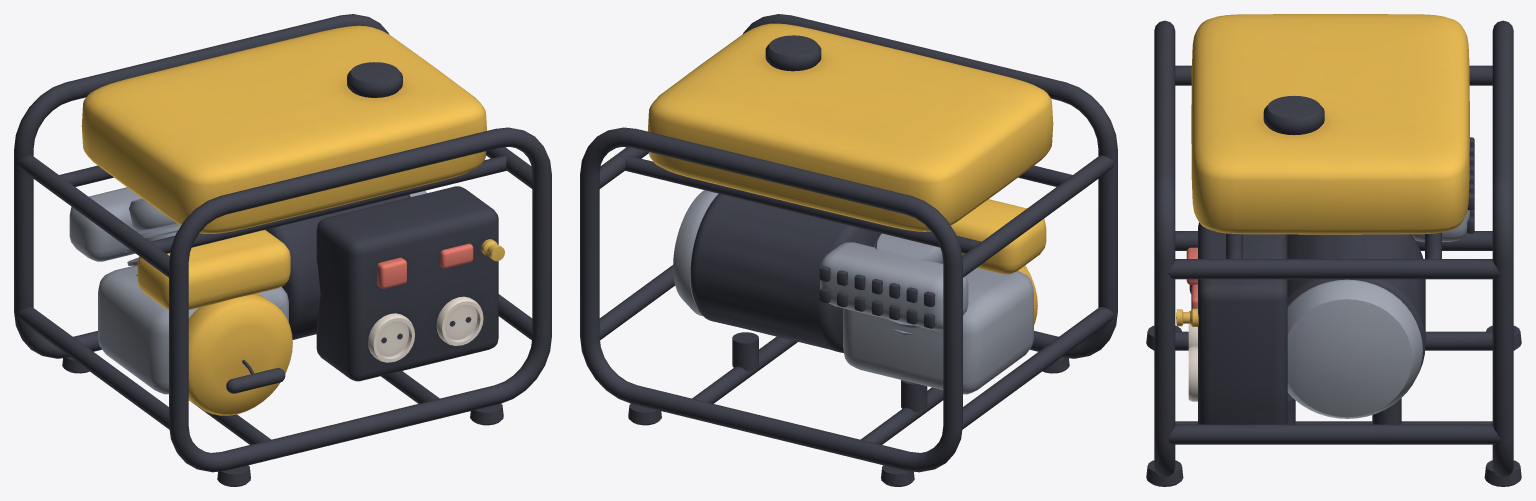
Rendered from PortableGenerator_Grab3D_CC0.glb.
The picture shows the model from 3 angles, left to right: view 1: azimuth 30°, elevation 25°; view 2: azimuth 150°, elevation 25°; view 3: azimuth 270°, elevation 25°; orthographic projection. The views are drawn at different scales.
Parts seen in each view (by area): view 1: generator_body; view 2: generator_body; view 3: generator_body.
Boxes of the visible parts, x1,y1,x2,y2 form: generator_body: [14, 14, 551, 486]; generator_body: [580, 14, 1117, 486]; generator_body: [1146, 14, 1521, 486].
Bounding box in the file's own units: 0.722 × 0.576 × 0.566.
Materials: 1 (1 with a texture image).
